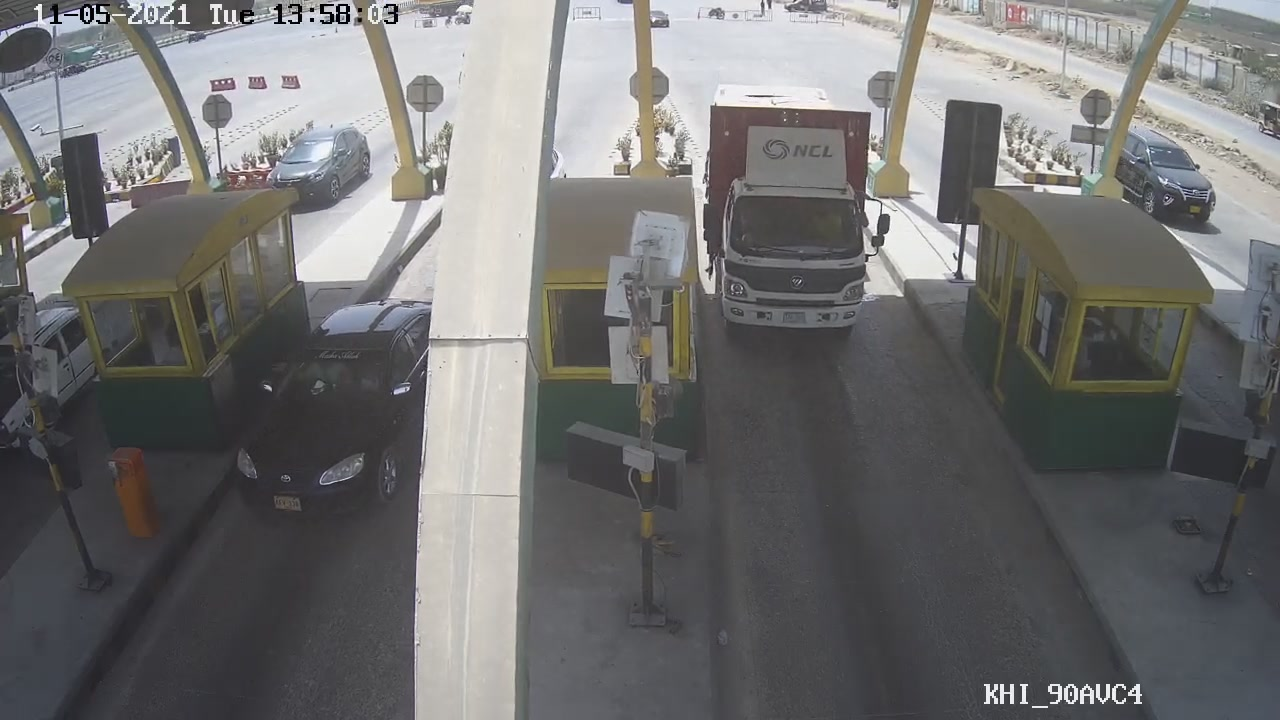F6: (695, 76, 879, 338)
